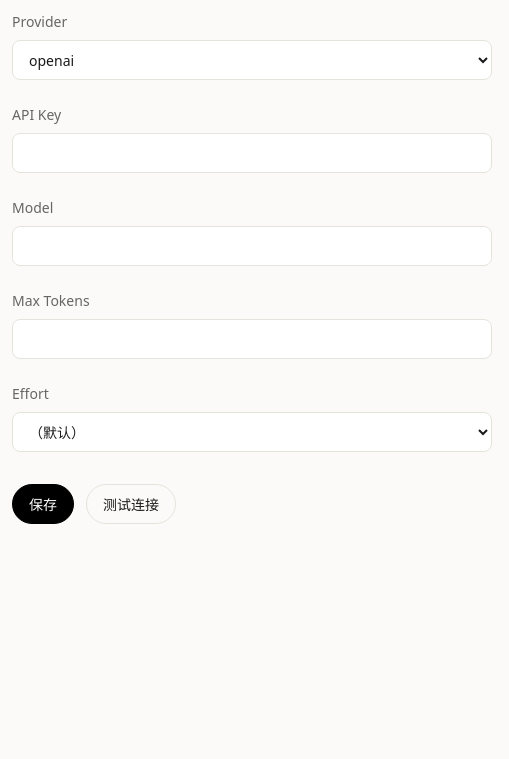
Test: ProviderForm 测试连接 › 失败时显示 ✗
Step 1. Click the button "测试连接" → (131, 504), box [86, 484, 176, 524]
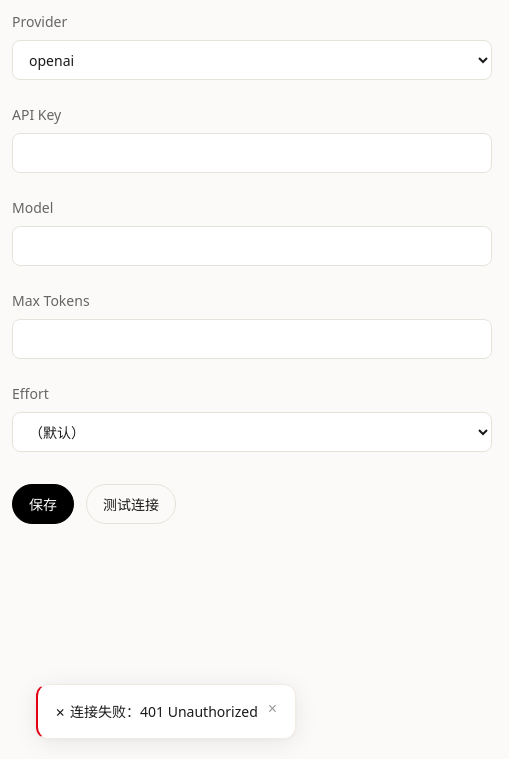
Result: the text "✗ 连接失败：401 Unauthorized" is shown at [54, 701, 258, 722]
